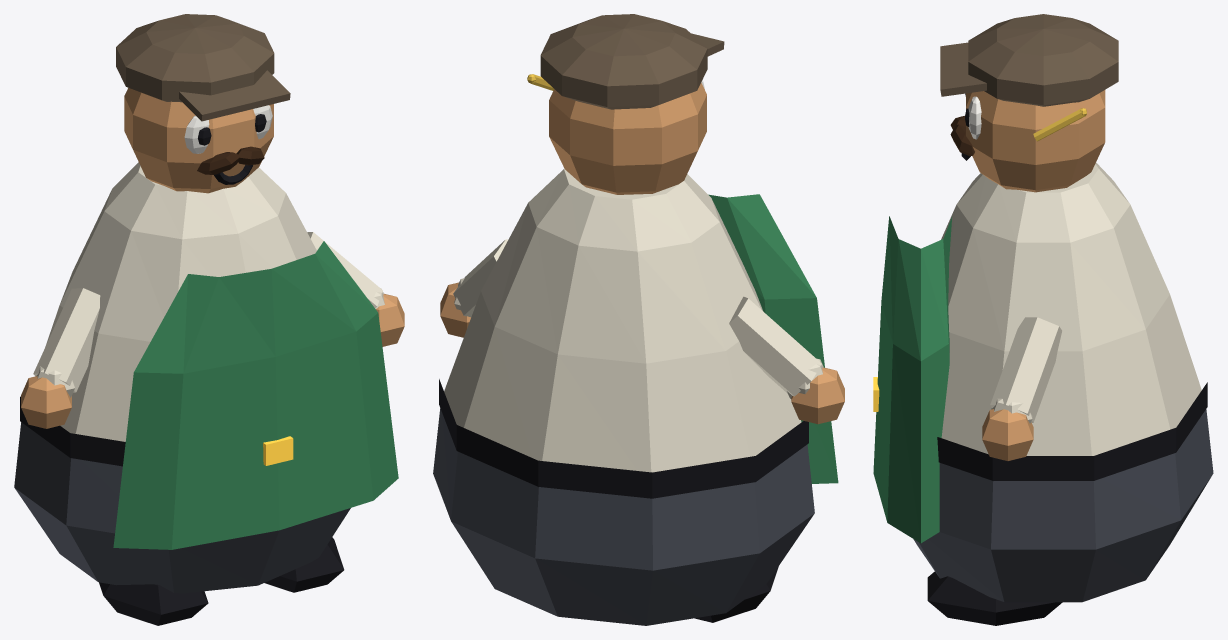
File: npc_puestero.glb
3 renders of one model, left to right at view 1: azimuth 30°, elevation 25°; view 2: azimuth 150°, elevation 25°; view 3: azimuth 270°, elevation 25°, orthographic. The views are drawn at different scales.
Visible parts, largest first — view 1: apron_vendor_apron, body_vendor_shirt, body_vendor_pants, cap_flat_cap, head_skin_arena, arms_vendor_shirt, legs_black, arms_skin_arena, body_black, face_vendor_mustache, face_white, face_black (+1 smaller); view 2: body_vendor_shirt, body_vendor_pants, cap_flat_cap, head_skin_arena, body_black, apron_vendor_apron, arms_vendor_shirt, arms_skin_arena, legs_black; view 3: body_vendor_shirt, body_vendor_pants, apron_vendor_apron, cap_flat_cap, head_skin_arena, body_black, arms_vendor_shirt, legs_black, arms_skin_arena, face_vendor_mustache, props_pencil, face_white.
Part boxes in pixels (x1,y1,x2,y2): apron_vendor_apron: (113, 241, 398, 549); body_vendor_shirt: (45, 162, 316, 441); body_vendor_pants: (14, 422, 350, 593); cap_flat_cap: (116, 14, 290, 121); head_skin_arena: (124, 88, 273, 193); arms_vendor_shirt: (33, 232, 384, 397); legs_black: (99, 537, 344, 625); arms_skin_arena: (21, 293, 404, 428); body_black: (20, 396, 125, 466); face_vendor_mustache: (197, 146, 264, 174); face_white: (184, 105, 272, 153); face_black: (198, 114, 266, 184); body_vendor_shirt: (444, 168, 801, 472); body_vendor_pants: (433, 408, 814, 625); cap_flat_cap: (540, 14, 724, 109); head_skin_arena: (549, 83, 706, 194); body_black: (439, 379, 808, 498); apron_vendor_apron: (708, 194, 838, 483); arms_vendor_shirt: (453, 239, 823, 398); arms_skin_arena: (440, 282, 844, 424); legs_black: (695, 566, 778, 622); body_vendor_shirt: (941, 162, 1201, 455); body_vendor_pants: (913, 409, 1213, 602); apron_vendor_apron: (873, 216, 952, 543); cap_flat_cap: (940, 14, 1118, 106); head_skin_arena: (966, 90, 1105, 192); body_black: (937, 382, 1207, 480); arms_vendor_shirt: (990, 317, 1061, 423); legs_black: (927, 571, 1062, 625); arms_skin_arena: (982, 409, 1033, 460); face_vendor_mustache: (950, 116, 974, 156); props_pencil: (1033, 108, 1086, 141); face_white: (968, 96, 981, 139).
Size of the model in its own units: 1.13 by 1.55 by 0.86.
